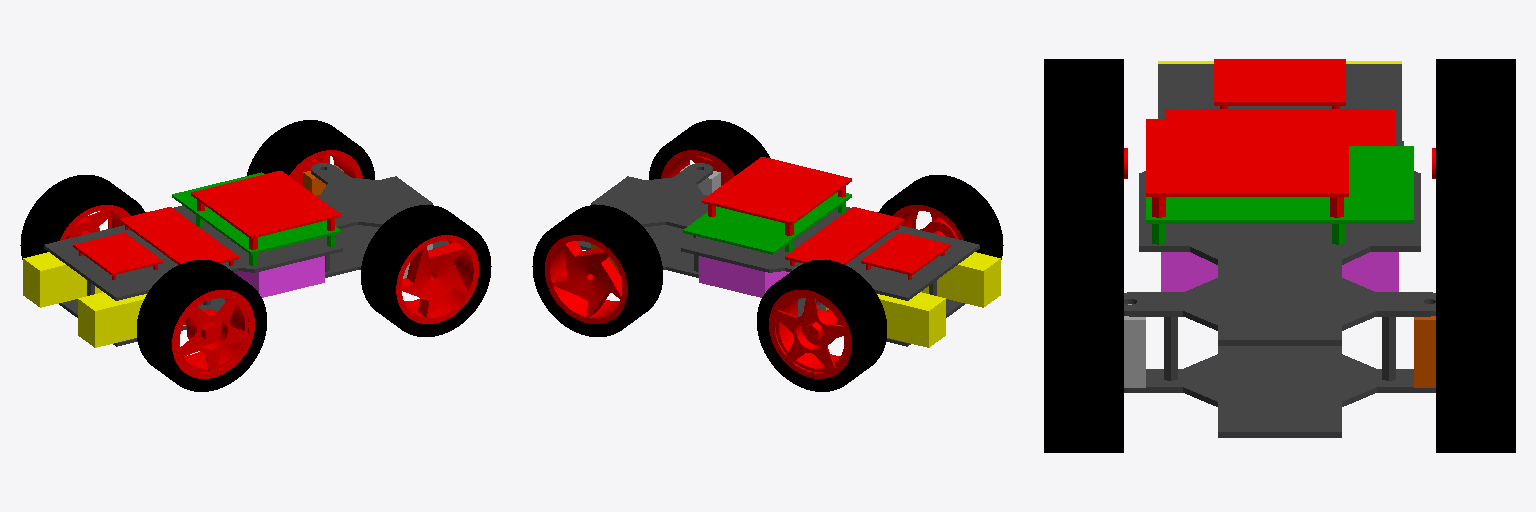
robot.urdf — picarx:
<?xml version="1.0" ?>
<robot name="picarx"
        xmlns:gazebo="http://playerstage.sourceforge.net/gazebo/xmlschema/#gz"
        xmlns:model="http://playerstage.sourceforge.net/gazebo/xmlschema/#model"
        xmlns:sensor="http://playerstage.sourceforge.net/gazebo/xmlschema/#sensor"
        xmlns:body="http://playerstage.sourceforge.net/gazebo/xmlschema/#body"
        xmlns:geom="http://playerstage.sourceforge.net/gazebo/xmlschema/#geom"
        xmlns:joint="http://playerstage.sourceforge.net/gazebo/xmlschema/#joint"
        xmlns:controller="http://playerstage.sourceforge.net/gazebo/xmlschema/#controller"
        xmlns:interface="http://playerstage.sourceforge.net/gazebo/xmlschema/#interface"
        xmlns:rendering="http://playerstage.sourceforge.net/gazebo/xmlschema/#rendering"
        xmlns:physics="http://playerstage.sourceforge.net/gazebo/xmlschema/#physics">
  
  <gazebo>
    <self_collide>true</self_collide>
  </gazebo>
  <link name="world"/>

  <link name="chassis">
    <inertial>
      <mass value="1"/>
      <origin rpy="0  0  0" xyz="0  0  0"/>
      <inertia ixx="0.166667" ixy="0" ixz="0" iyy="0.166667" iyz="0" izz="0.166667"/>
    </inertial>
    <collision>
      <origin rpy="0  0  0" xyz="0     0     0.025"/>
      <geometry>
        <mesh filename="package://picarx_description/meshes/Chassis.dae" scale="1 1 1"/>
      </geometry>
    </collision>
    <visual>
      <origin rpy="0  0  0" xyz="0     0     0.025"/>
      <geometry>
        <mesh filename="package://picarx_description/meshes/Chassis.dae" scale="1 1 1"/>
      </geometry>
    </visual>
  </link>

  <joint name="chassis_to_world" type="fixed">
    <parent link="world" />
    <child link="chassis" />
  </joint>


  <link name="right_wheel">
    <inertial>
      <mass value="1"/>
      <origin rpy="0  0  0" xyz="0 0 0"/>
      <inertia ixx="0.166667" ixy="0" ixz="0" iyy="0.166667" iyz="0" izz="0.166667"/>
    </inertial>
    <collision>
      <origin rpy="0  0  0" xyz="0 0 0"/>
      <geometry>
        <mesh filename="package://picarx_description/meshes/WheelRearRight.dae" scale="1 1 1"/>
      </geometry>
    </collision>
    <visual>
      <origin rpy="0  0  0" xyz="0 0 0"/>
      <geometry>
        <mesh filename="package://picarx_description/meshes/WheelRearRight.dae" scale="1 1 1"/>
      </geometry>
    </visual>
  </link>
  <joint name="joint_wheel_right" type="continuous">
    <parent link="chassis"/>
    <child link="right_wheel"/>
    <origin rpy="1.5708 0      0" xyz="0.0   -0.063  0.0375"/>
    <axis xyz="0 0 1"/>
  </joint>


  <link name="left_wheel">
    <inertial>
      <mass value="1"/>
      <origin rpy="0  0  0" xyz="0 0 0"/>
      <inertia ixx="0.166667" ixy="0" ixz="0" iyy="0.166667" iyz="0" izz="0.166667"/>
    </inertial>
    <collision>
      <origin rpy="0  0  0" xyz="0 0 0"/>
      <geometry>
        <mesh filename="package://picarx_description/meshes/WheelRearLeft.dae" scale="1 1 1"/>
      </geometry>
    </collision>
    <visual>
      <origin rpy="0  0  0" xyz="0 0 0"/>
      <geometry>
        <mesh filename="package://picarx_description/meshes/WheelRearLeft.dae" scale="1 1 1"/>
      </geometry>
    </visual>
  </link>
  <joint name="joint_wheel_left" type="continuous">
    <parent link="chassis"/>
    <child link="left_wheel"/>
    <origin rpy="1.5708  0 0" xyz="0.0   0.063  0.0375"/>
    <axis xyz="0  0  1"/>
  </joint>



  <link name="picarx_WheelFrontLeft">
    <inertial>
      <mass value="1"/>
      <origin rpy="-1.5708  0  0" xyz="0 0 0"/>
      <inertia ixx="0.166667" ixy="0" ixz="0" iyy="0.166667" iyz="0" izz="0.166667"/>
    </inertial>
    <collision>
      <origin rpy="-1.5708  0  0" xyz="0 0 0"/>
      <geometry>
        <mesh filename="package://picarx_description/meshes/WheelFrontLeft.dae" scale="1 1 1"/>
      </geometry>
    </collision>
    <visual>
      <origin rpy="-1.5708  0  0" xyz="0 0 0"/>
      <geometry>
        <mesh filename="package://picarx_description/meshes/WheelFrontLeft.dae" scale="1 1 1"/>
      </geometry>
    </visual>
  </link>
  <joint name="front_left_wheel" type="continuous">
    <parent link="picarx_steer_fl"/>
    <child link="picarx_WheelFrontLeft"/>
    <origin rpy="0 0 0" xyz="0.0 0.015 -0.0025"/>
    <axis xyz="0  0  1"/>
  </joint>

  <link name="picarx_steer_fl">
    <inertial>
      <mass value="1"/>
      <origin rpy="0  0  0" xyz="0 0 0"/>
      <inertia ixx="0.166667" ixy="0" ixz="0" iyy="0.166667" iyz="0" izz="0.166667"/>
    </inertial>
    <visual>
      <origin rpy="0  0  0" xyz="0 0 0"/>
      <geometry>
        <box size="0.02 0.01 0.024"/>
      </geometry>
    </visual>
    <collision>
      <origin rpy="0  0  0" xyz="0 0 0"/>
      <geometry>
        <box size="0.02 0.01 0.024"/>
      </geometry>
    </collision>
  </link>
  <joint name="steer_left" type="revolute">
    <parent link="chassis"/>
    <child link="picarx_steer_fl"/>
    <origin rpy="0  0  0" xyz="0.14   0.048  0.04"/>
    <axis xyz="0 0 1" />
    <limit effort="10" lower="-0.698" upper="0.698" velocity="1" />
  </joint>

  <link name="picarx_WheelFrontRight">
    <inertial>
      <mass value="1"/>
      <origin rpy="-1.5708  0  0" xyz="0 0 0"/>
      <inertia ixx="0.166667" ixy="0" ixz="0" iyy="0.166667" iyz="0" izz="0.166667"/>
    </inertial>
    <collision>
      <origin rpy="-1.5708  0  0" xyz="0 0 0"/>
      <geometry>
        <mesh filename="package://picarx_description/meshes/WheelFrontRight.dae" scale="1 1 1"/>
      </geometry>
    </collision>
    <visual>
      <origin rpy="-1.5708  0  0" xyz="0 0 0"/>
      <geometry>
        <mesh filename="package://picarx_description/meshes/WheelFrontRight.dae" scale="1 1 1"/>
      </geometry>
    </visual>
  </link>
  <joint name="front_right_wheel" type="continuous">
    <parent link="picarx_steer_fr"/>
    <child link="picarx_WheelFrontRight"/>
    <origin rpy="0 0 0" xyz="0.0 -0.015 -0.0025"/>
    <axis xyz="0  0  1"/>
  </joint>

  <link name="picarx_steer_fr">
    <inertial>
      <mass value="1"/>
      <origin rpy="0  0  0" xyz="0 0 0"/>
      <inertia ixx="0.166667" ixy="0" ixz="0" iyy="0.166667" iyz="0" izz="0.166667"/>
    </inertial>
    <visual>
      <origin rpy="0  0  0" xyz="0 0 0"/>
      <geometry>
        <box size="0.02 0.01 0.024"/>
      </geometry>
    </visual>
    <collision>
      <origin rpy="0  0  0" xyz="0 0 0"/>
      <geometry>
        <box size="0.02 0.01 0.024"/>
      </geometry>
    </collision>
  </link>
  <joint name="steer_right" type="revolute">
    <parent link="chassis"/>
    <child link="picarx_steer_fr"/>
    <origin rpy="0  0  0" xyz="0.14   -0.048  0.04"/>
    <axis xyz="0 0 1" />
    <limit effort="10" lower="-0.698" upper="0.698" velocity="1" />
  </joint>

 <transmission name="trans_right_wheel">
    <type>transmission_interface/SimpleTransmission</type>
    <joint name="joint_wheel_right">
      <hardwareInterface>hardware_interface/VelocityJointInterface</hardwareInterface>
    </joint>
    <actuator name="motor_right">
      <mechanicalReduction>1</mechanicalReduction>
      <hardwareInterface>hardware_interface/VelocityJointInterface</hardwareInterface>
    </actuator>
  </transmission>

  <transmission name="trans_left_wheel">
    <type>transmission_interface/SimpleTransmission</type>
    <joint name="joint_wheel_left">
      <hardwareInterface>hardware_interface/VelocityJointInterface</hardwareInterface>
    </joint>
    <actuator name="motor_left">
      <mechanicalReduction>1</mechanicalReduction>
      <hardwareInterface>hardware_interface/VelocityJointInterface</hardwareInterface>
    </actuator>
  </transmission>

  <transmission name="trans_steer_left">
    <type>transmission_interface/SimpleTransmission</type>
    <joint name="steer_left">
      <hardwareInterface>hardware_interface/PositionJointInterface</hardwareInterface>
    </joint>
    <actuator name="steering_servo_l">
      <mechanicalReduction>1</mechanicalReduction>
      <hardwareInterface>hardware_interface/PositionJointInterface</hardwareInterface>
    </actuator>
  </transmission>

  <transmission name="trans_steer_right">
    <type>transmission_interface/SimpleTransmission</type>
    <joint name="steer_right">
      <hardwareInterface>hardware_interface/PositionJointInterface</hardwareInterface>
    </joint>
    <actuator name="steering_servo_r">
      <mechanicalReduction>1</mechanicalReduction>
      <hardwareInterface>hardware_interface/PositionJointInterface</hardwareInterface>
    </actuator>
  </transmission>

  <gazebo>
    <plugin name="gazebo_ros_control" filename="libgazebo_ros_control.so">
      <robotNamespace>/picarx</robotNamespace>
    </plugin>
  </gazebo>
</robot>

--- Facts derived from the render (not from the file) ---
The picture shows the robot from 3 angles, left to right: view 1: azimuth 30°, elevation 25°; view 2: azimuth 150°, elevation 25°; view 3: azimuth 270°, elevation 25°; orthographic projection.
Robot: picarx — 8 links, 7 joints (2 revolute, 4 continuous, 1 fixed); root link world; default pose: every joint at zero.
Visible links, largest first — view 1: chassis, picarx_WheelFrontRight, right_wheel, left_wheel, picarx_WheelFrontLeft; view 2: chassis, picarx_WheelFrontLeft, left_wheel, right_wheel, picarx_WheelFrontRight; view 3: chassis, picarx_WheelFrontLeft, picarx_WheelFrontRight, right_wheel, left_wheel, picarx_steer_fr, picarx_steer_fl.
Link boxes in pixels (x1=…): chassis: x1=23, y1=163, x2=448, y2=347; picarx_WheelFrontRight: x1=361, y1=205, x2=491, y2=336; right_wheel: x1=137, y1=260, x2=266, y2=391; left_wheel: x1=20, y1=175, x2=145, y2=259; picarx_WheelFrontLeft: x1=247, y1=120, x2=374, y2=185; chassis: x1=577, y1=157, x2=1000, y2=347; picarx_WheelFrontLeft: x1=532, y1=205, x2=662, y2=336; left_wheel: x1=757, y1=260, x2=886, y2=391; right_wheel: x1=878, y1=175, x2=1003, y2=259; picarx_WheelFrontRight: x1=649, y1=120, x2=770, y2=185; chassis: x1=1124, y1=59, x2=1435, y2=437; picarx_WheelFrontLeft: x1=1436, y1=244, x2=1515, y2=452; picarx_WheelFrontRight: x1=1044, y1=244, x2=1123, y2=452; right_wheel: x1=1044, y1=59, x2=1127, y2=243; left_wheel: x1=1432, y1=59, x2=1515, y2=243; picarx_steer_fr: x1=1124, y1=304, x2=1145, y2=387; picarx_steer_fl: x1=1414, y1=316, x2=1435, y2=387.
Bounding box of the posed robot: 0.234 × 0.151 × 0.069 m (x, y, z).
Meshes: 5 distinct files referenced, 5 mesh visuals loaded (5 Collada DAE).